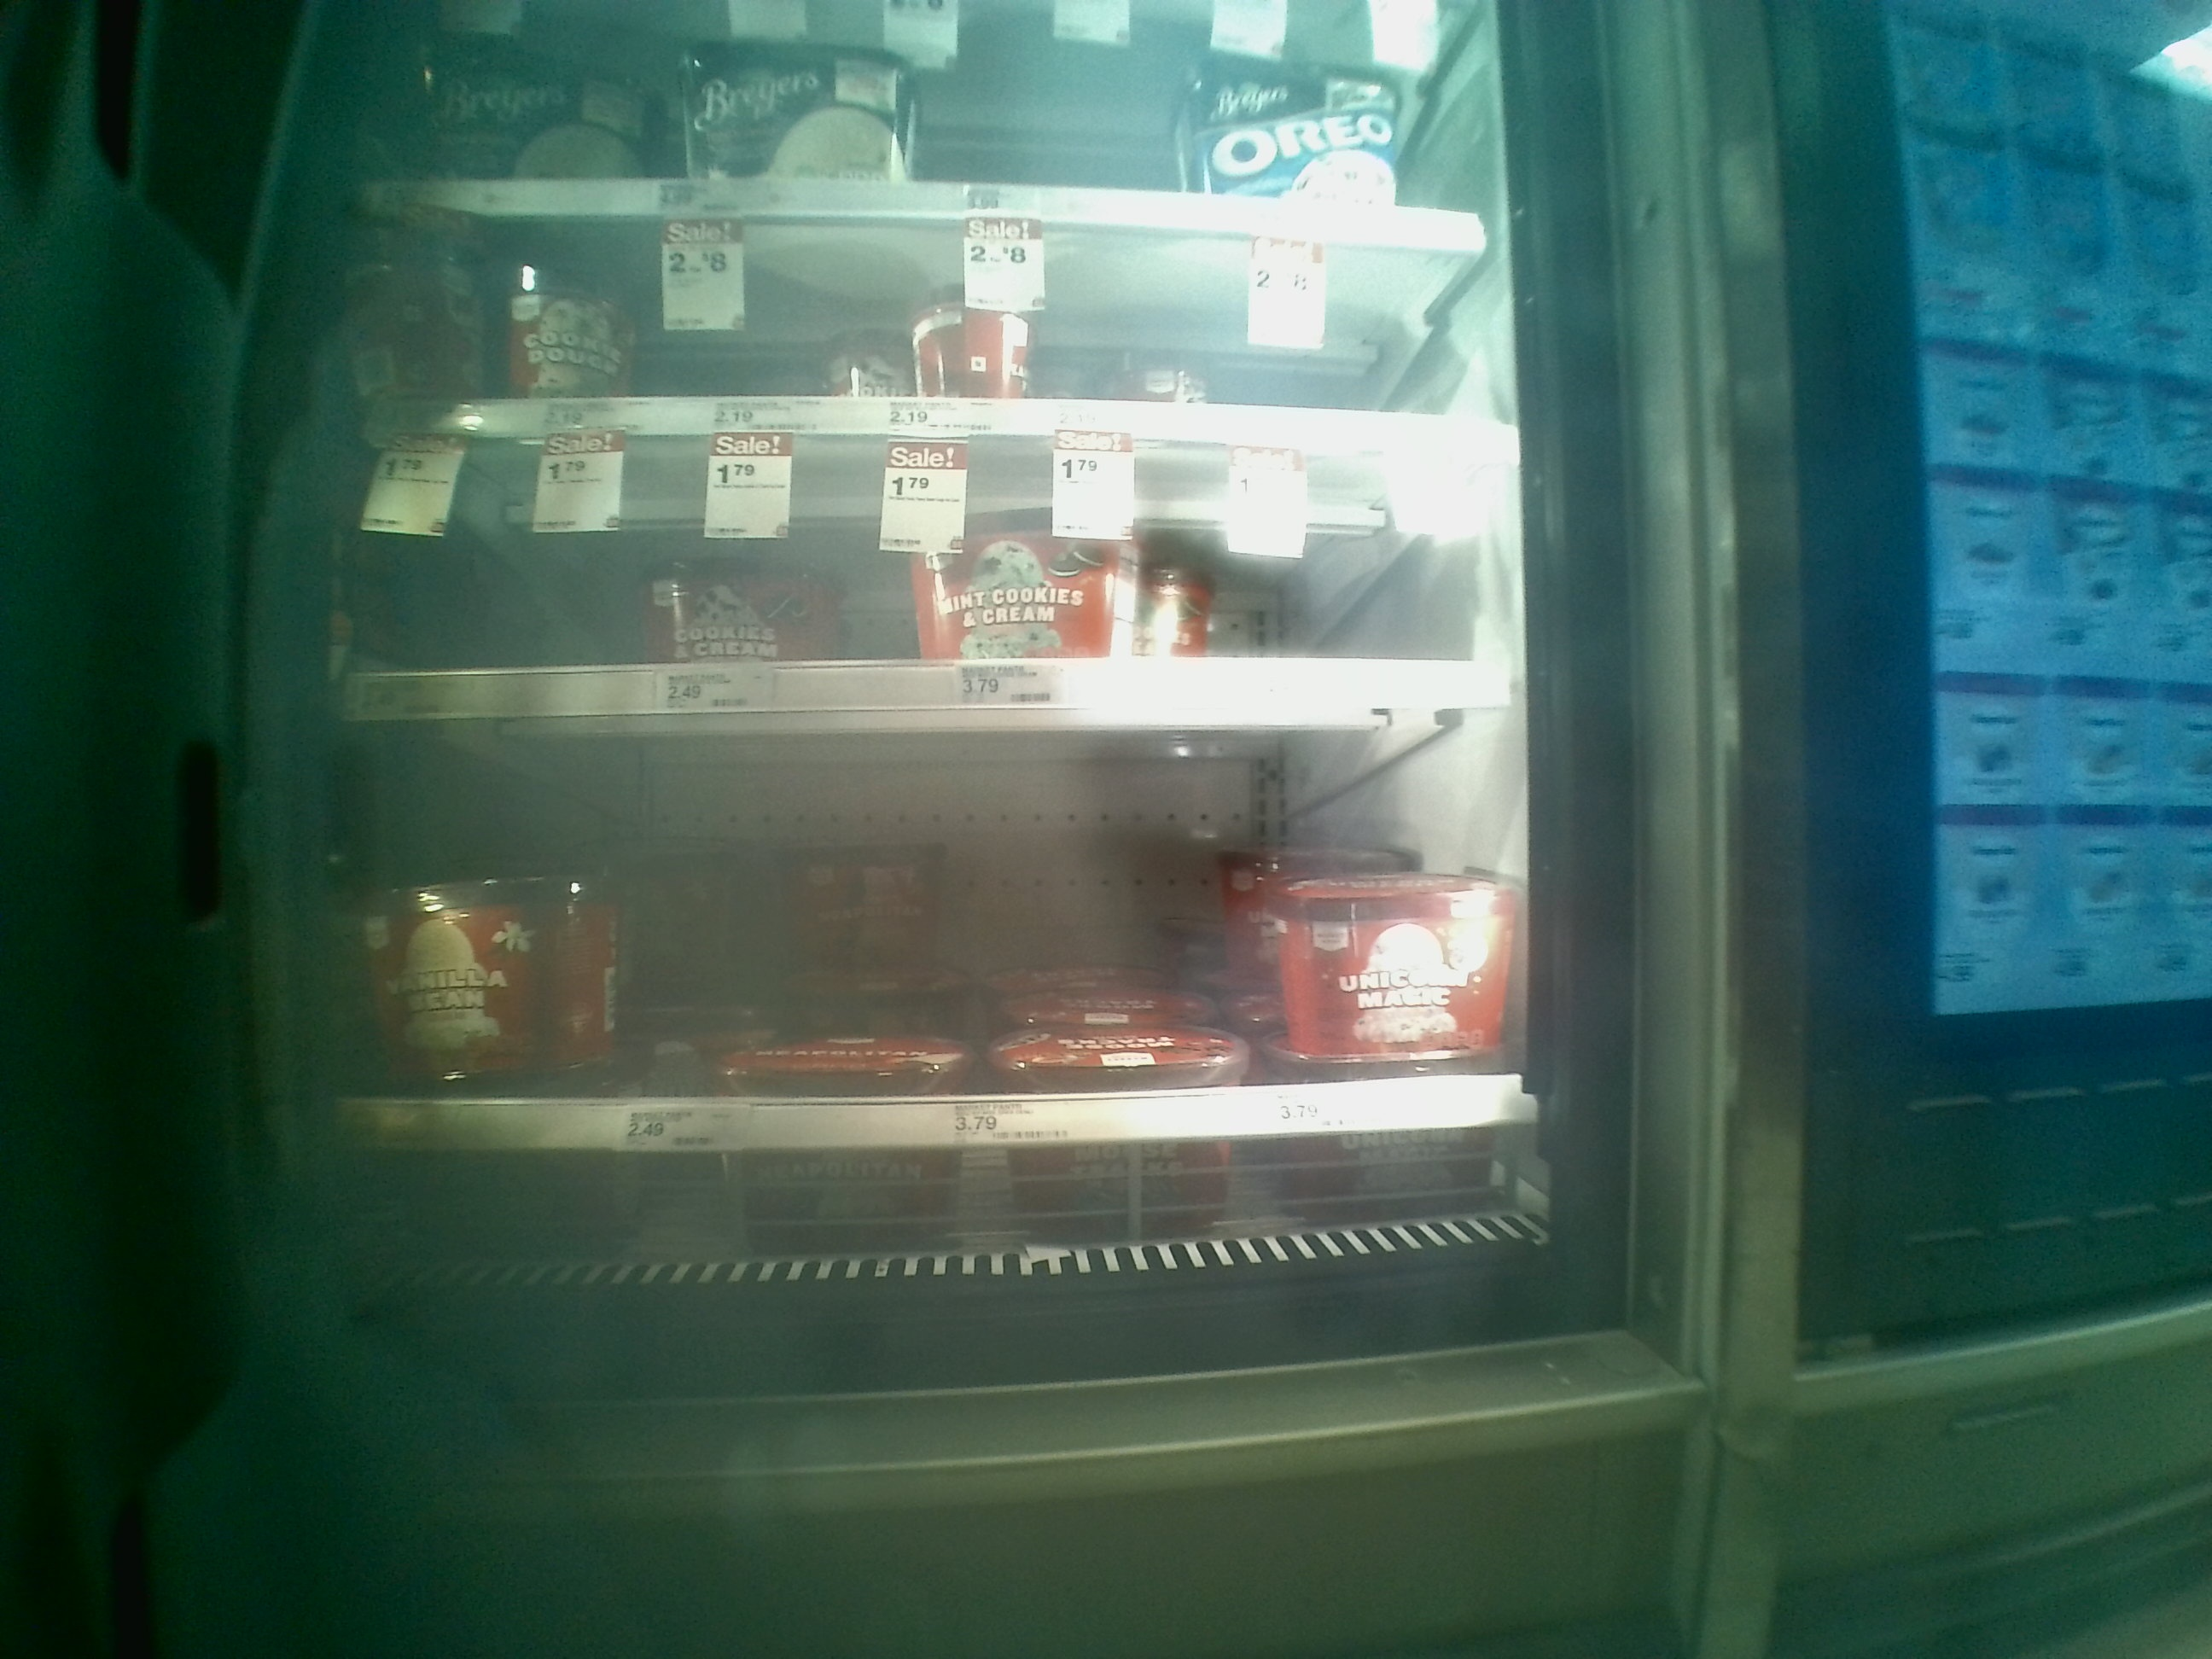shelf: (340, 727, 1541, 1162), (340, 446, 1519, 723), (334, 209, 1529, 446)
